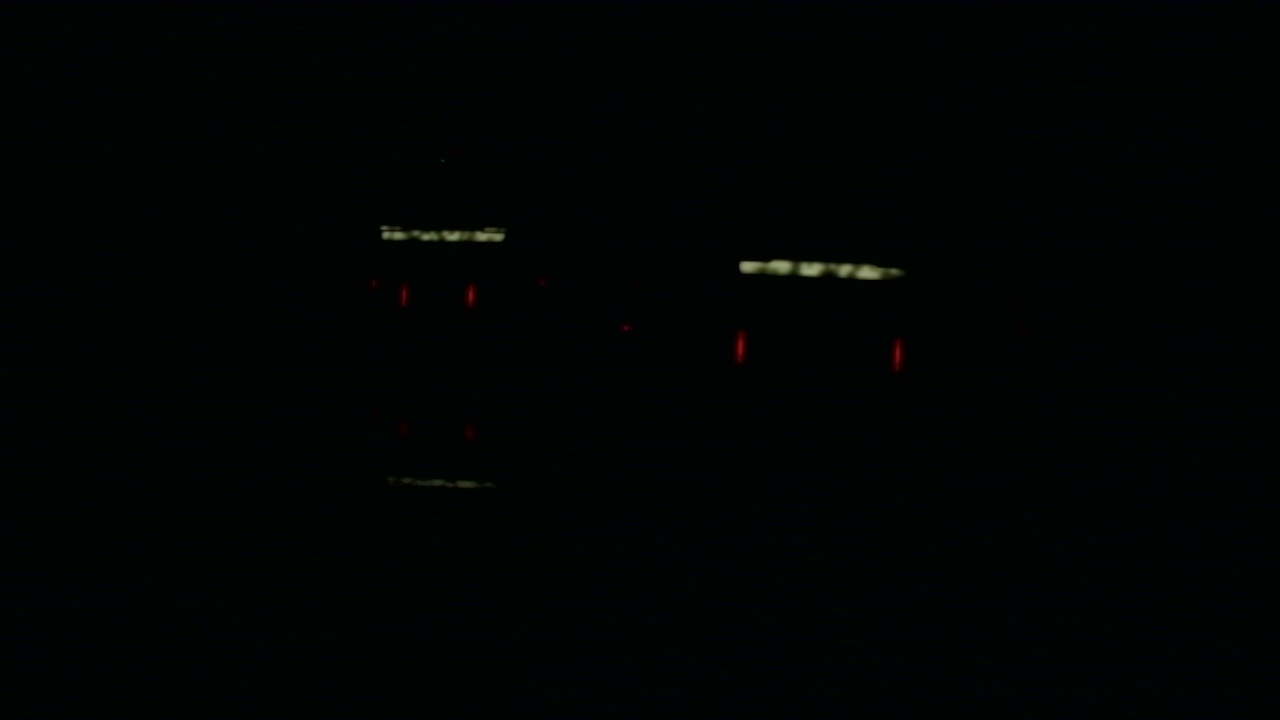lamp: (891, 331, 904, 371), (733, 331, 744, 366), (463, 283, 474, 305), (400, 285, 407, 303)
pair1: (400, 285, 474, 305)
pair2: (734, 332, 904, 375)
